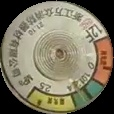green: (73, 79, 107, 110)
needle: (69, 77, 90, 106)
red: (93, 35, 114, 88)
yellow: (27, 88, 76, 114)
